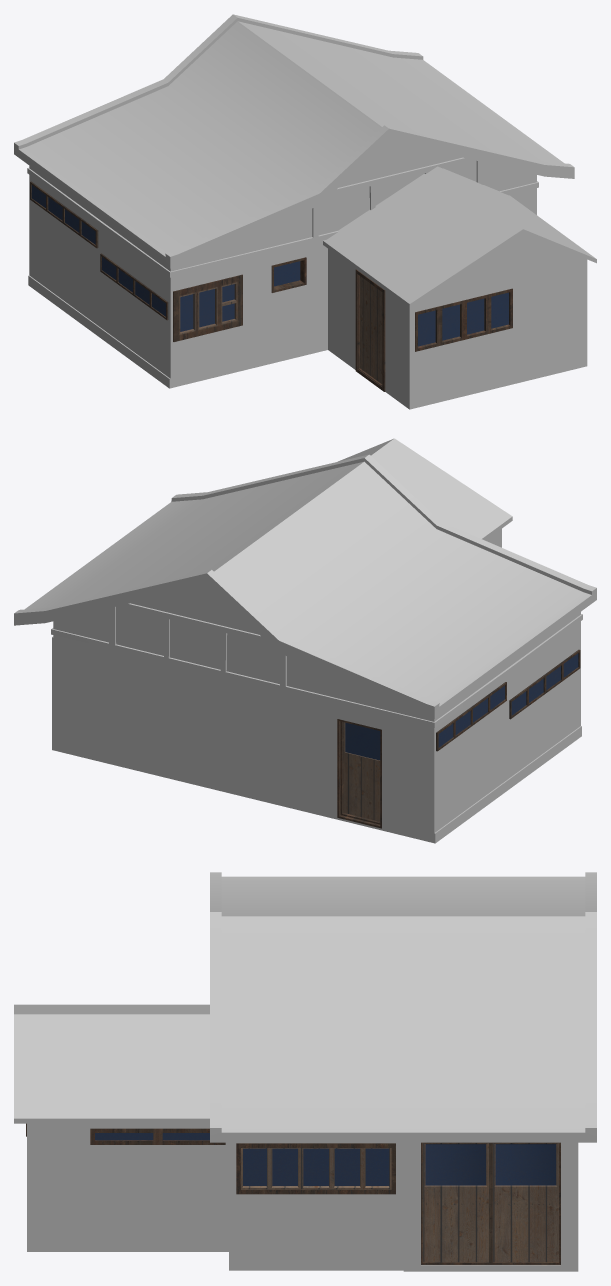
The model's file is House1-4.fbx.
The picture shows the model from 3 angles, top to bottom: view 1: azimuth 30°, elevation 25°; view 2: azimuth 150°, elevation 25°; view 3: azimuth 270°, elevation 25°; orthographic projection. The views are drawn at different scales.
Visible parts, largest first — view 1: House1-4; view 2: House1-4; view 3: House1-4.
Boxes of the visible parts, box(x1,y1,x2,y2) form: House1-4: box(14, 14, 596, 409); House1-4: box(14, 438, 596, 843); House1-4: box(14, 872, 596, 1271).
Size of the model in its own units: 662 by 334 by 667.
